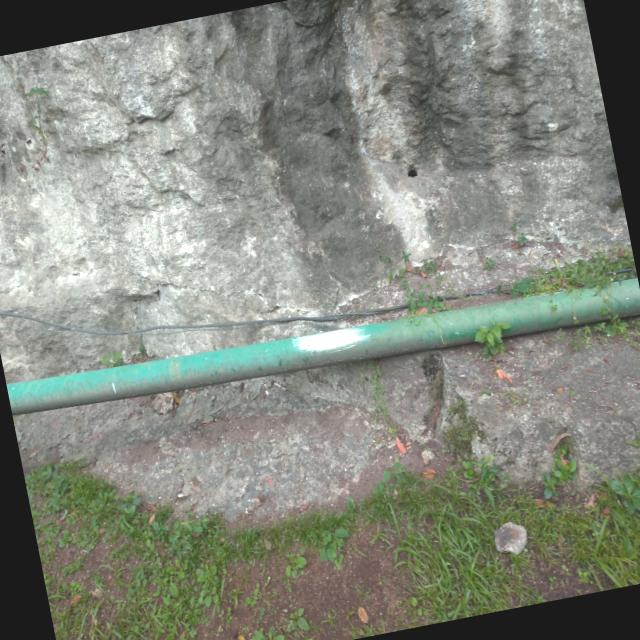gas: (10, 279, 640, 411)
